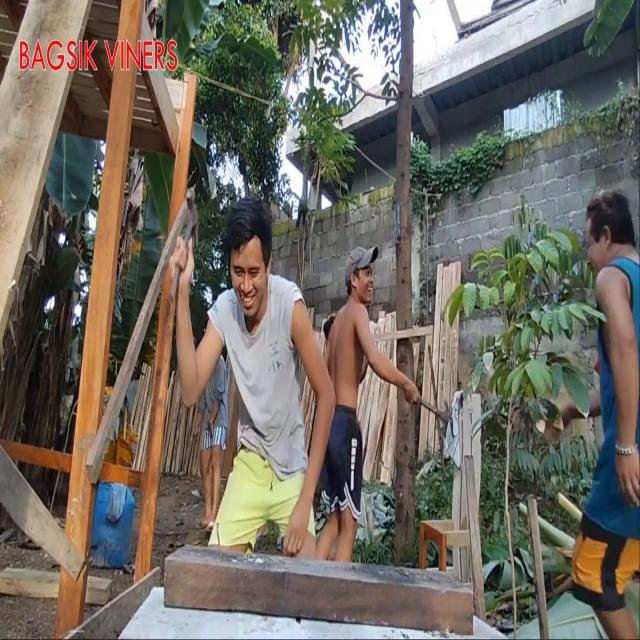hammer: (170, 189, 199, 304), (418, 398, 449, 438)
